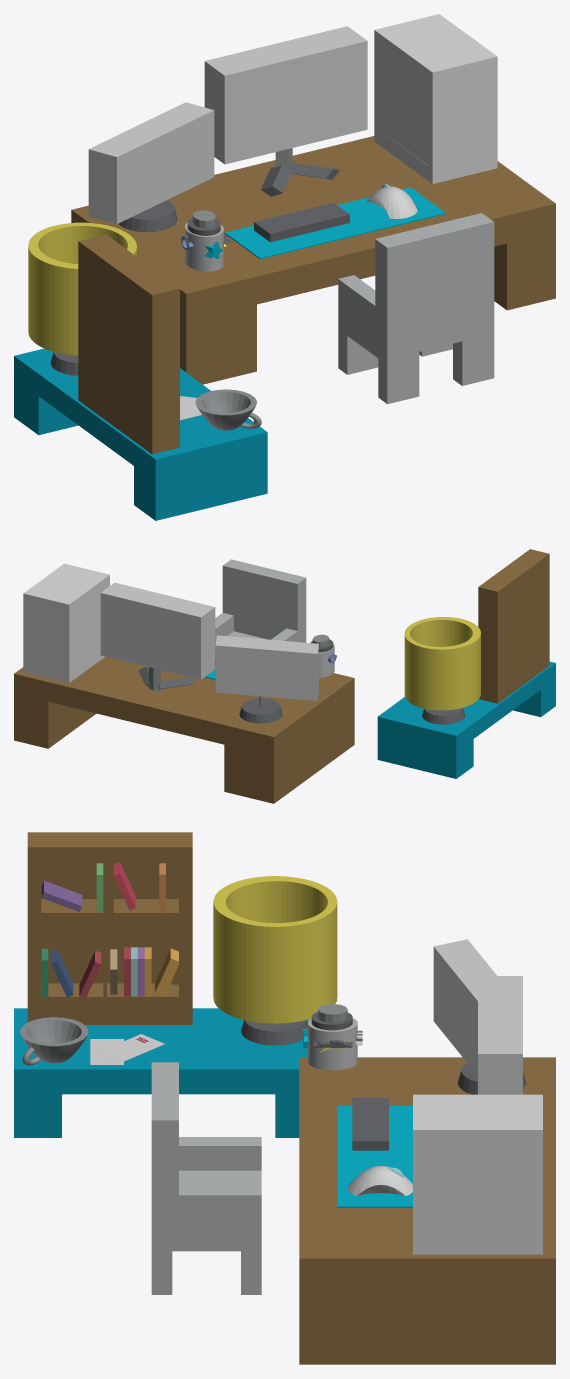
File: desk.glb
3 views of the same model, one above another, from view 1: azimuth 30°, elevation 25°; view 2: azimuth 150°, elevation 25°; view 3: azimuth 270°, elevation 25° (orthographic). The views are drawn at different scales.
Visible parts, largest first — view 1: Mesh_Mesh_head_geo.001_lambert2SG.001; view 2: Mesh_Mesh_head_geo.001_lambert2SG.001; view 3: Mesh_Mesh_head_geo.001_lambert2SG.001.
Part boxes in pixels (x1,y1,x2,y2): Mesh_Mesh_head_geo.001_lambert2SG.001: [14, 14, 555, 520]; Mesh_Mesh_head_geo.001_lambert2SG.001: [14, 549, 555, 803]; Mesh_Mesh_head_geo.001_lambert2SG.001: [14, 832, 555, 1364].
Size of the model in its own units: 99.5 by 40.4 by 78.8.
